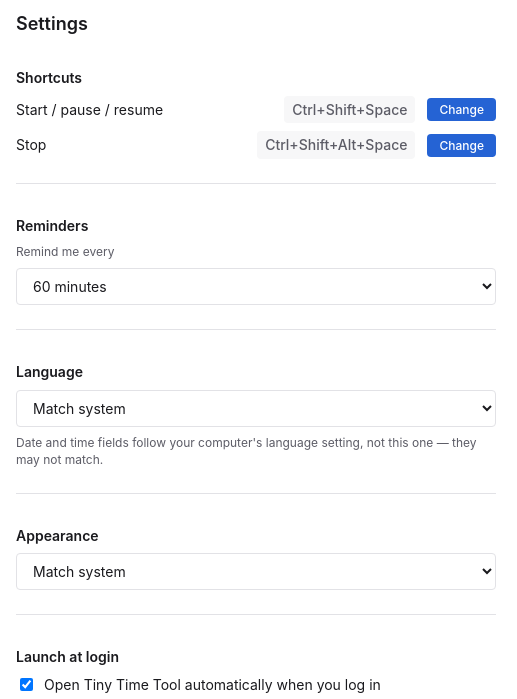
Test case: Settings — shortcuts › clicking Change enters listening mode
What coordinates should you click on to do the following:
click the button with aria-label "Change the Start / pause / resume shortcut"
I would click on:
 (462, 110)
Its box is [428,98,496,121].
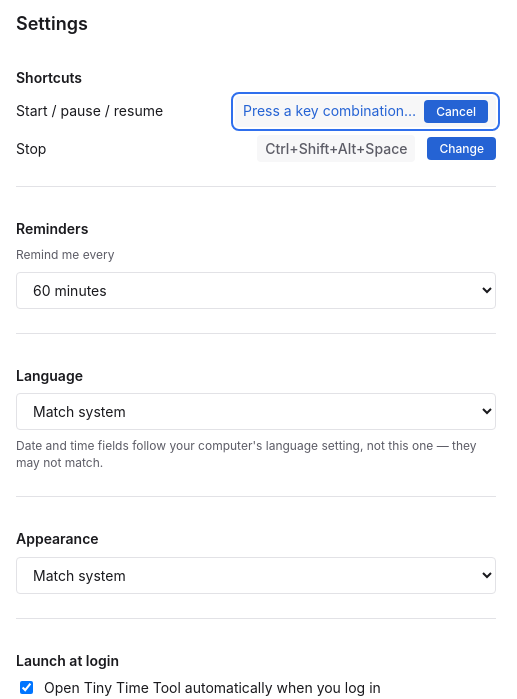
Now the text "Press a key combination…" is shown, box [243,102,416,121]
